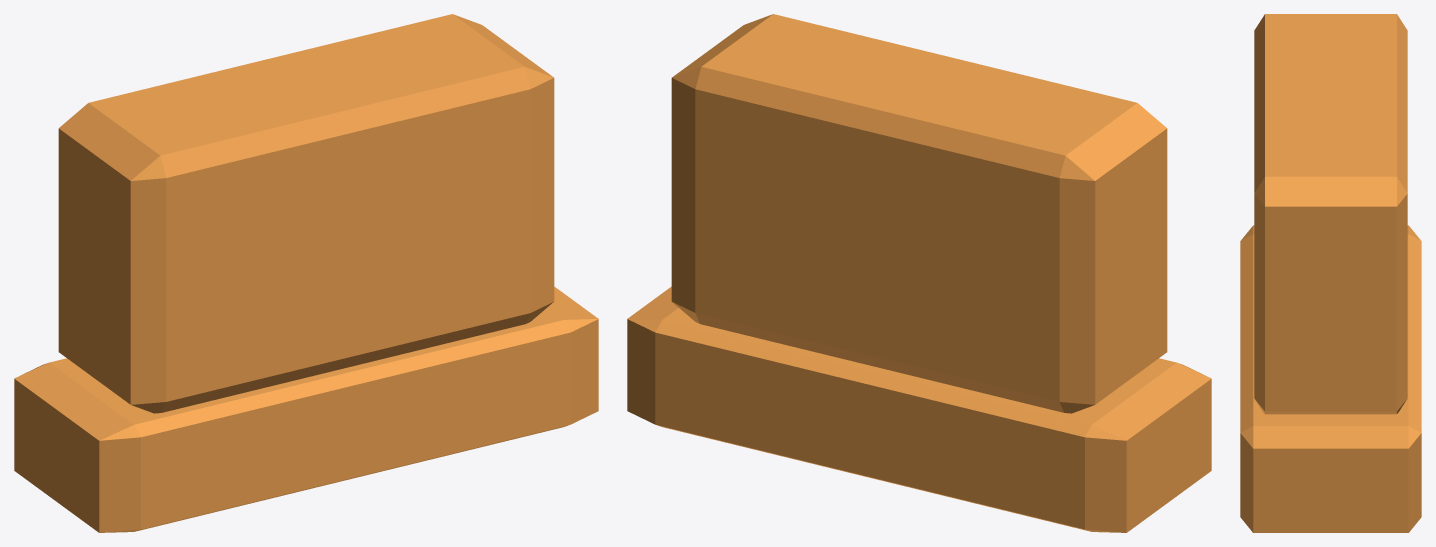
Rendered from b02_road_closed_barricade.glb.
3 views of the same model, side by side, from view 1: azimuth 30°, elevation 25°; view 2: azimuth 150°, elevation 25°; view 3: azimuth 270°, elevation 25° (orthographic). The views are drawn at different scales.
Parts seen in each view (by area): view 1: b02_road_closed_barricade; view 2: b02_road_closed_barricade; view 3: b02_road_closed_barricade.
Boxes of the visible parts, x1,y1,x2,y2 form: b02_road_closed_barricade: [14, 14, 598, 532]; b02_road_closed_barricade: [627, 14, 1211, 532]; b02_road_closed_barricade: [1240, 14, 1421, 532].
Bounding box in the file's own units: 2.48 × 1.73 × 0.85.
